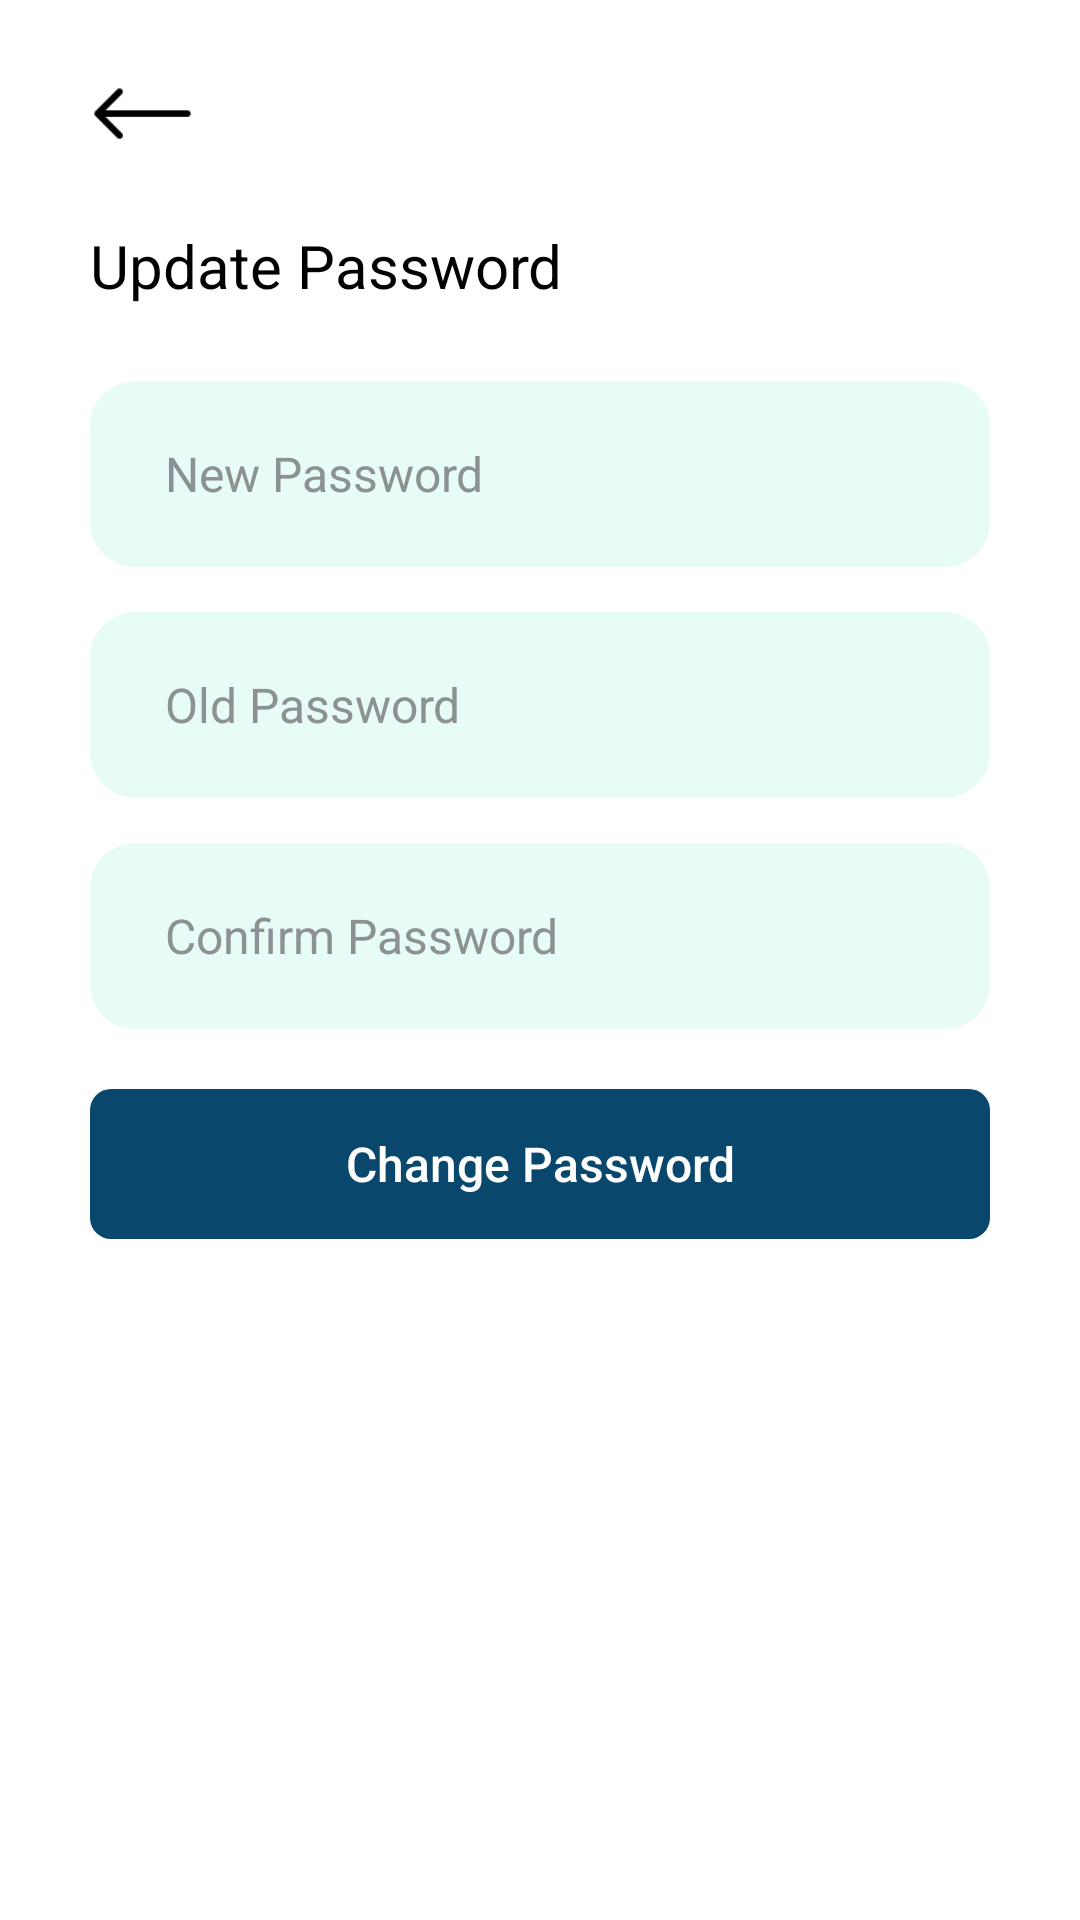

Where icons sit on this 1080x1920 app screen, as (x1, y1, x2, y2):
longarrow: (94, 88, 191, 139)
